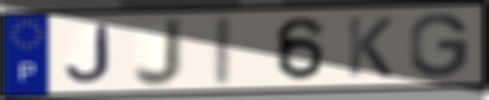6: (271, 15, 327, 83)
G: (407, 11, 472, 80)
I: (209, 13, 236, 88)
J: (130, 15, 187, 89), (62, 23, 114, 85)
K: (344, 15, 396, 80)
